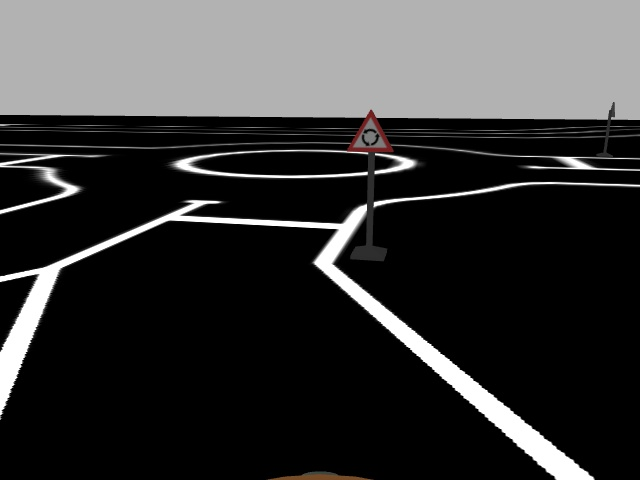roundabout: (346, 109, 394, 152)
